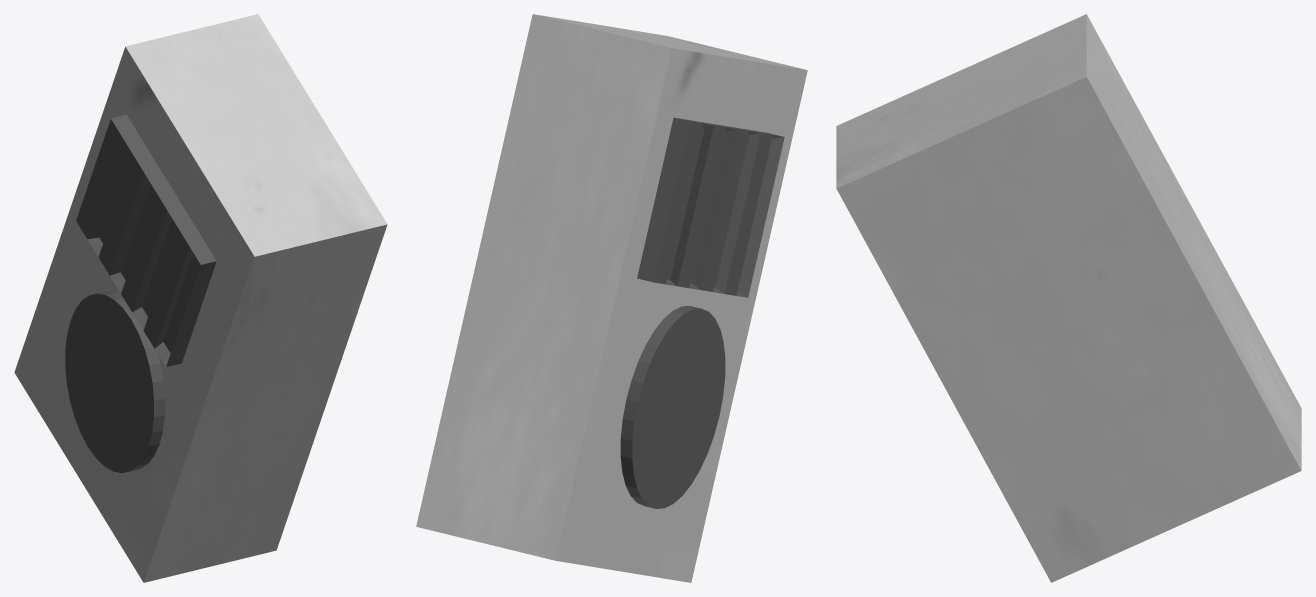
Rendered from arCondicionado_casa1_TEXTURIZADO.fbx.
The picture shows the model from 3 angles, left to right: view 1: azimuth 30°, elevation 25°; view 2: azimuth 150°, elevation 25°; view 3: azimuth 270°, elevation 25°; orthographic projection. The views are drawn at different scales.
Visible parts, largest first — view 1: ar_condicionado; view 2: ar_condicionado; view 3: ar_condicionado.
Boxes of the visible parts, x1=… form: ar_condicionado: x1=14, y1=14, x2=387, y2=582; ar_condicionado: x1=416, y1=14, x2=807, y2=582; ar_condicionado: x1=836, y1=14, x2=1301, y2=582.
Bounding box in the file's own units: 49.81 × 167 × 139.
Materials: 2 (1 with a texture image).
